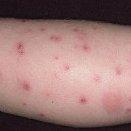Fleas: (78, 41, 92, 55), (16, 41, 24, 59), (20, 79, 32, 91), (49, 35, 61, 41), (79, 95, 87, 103), (38, 27, 46, 33), (64, 63, 70, 71), (115, 67, 121, 74), (70, 27, 80, 31)
